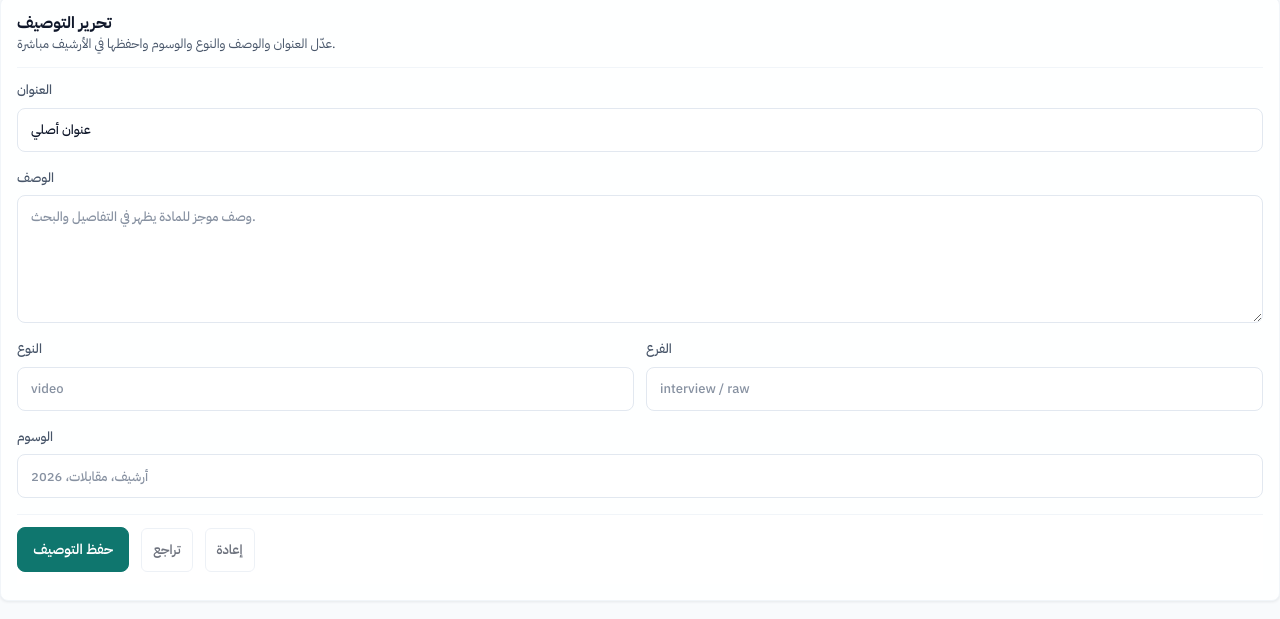
Test: RecordDescribeForm undo/redo (V1-732C) › typing after an undo clears redo history
This screenshot has width=1280, height=619.
Step 1. Replace the text in the field labelled "العنوان" with "أول تعديل" → (640, 130), box 17,108 -> 1263,152
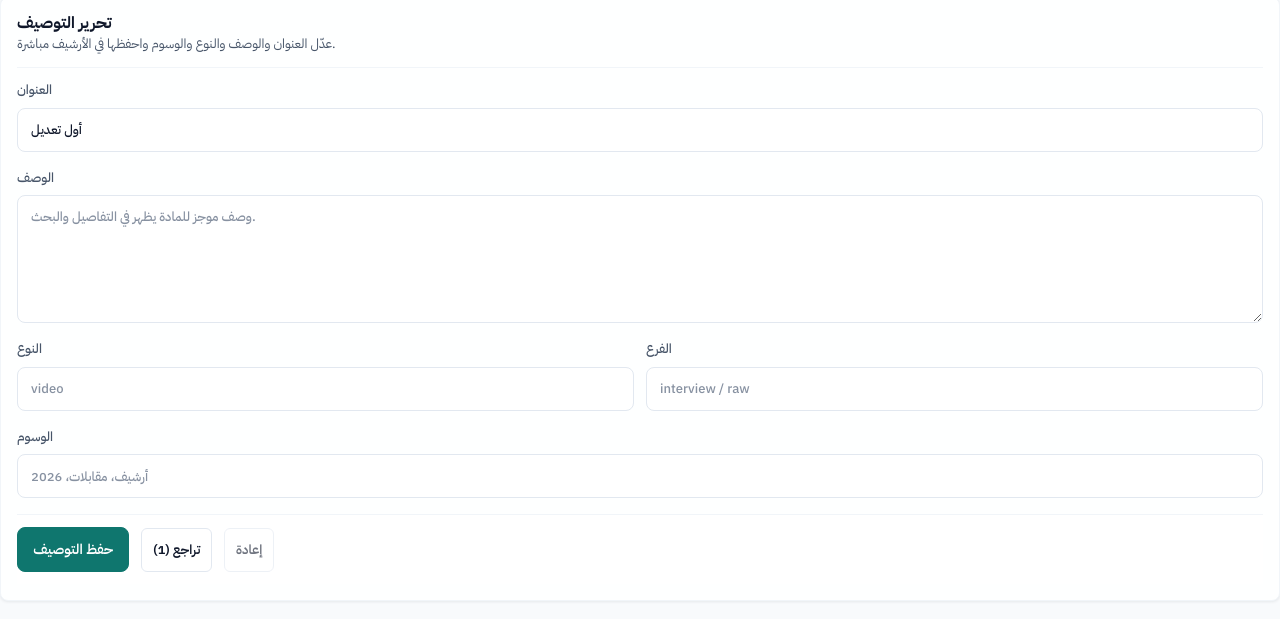
Step 2. Click the button "تراجع (1)" → (177, 550), box 141,528 -> 212,572
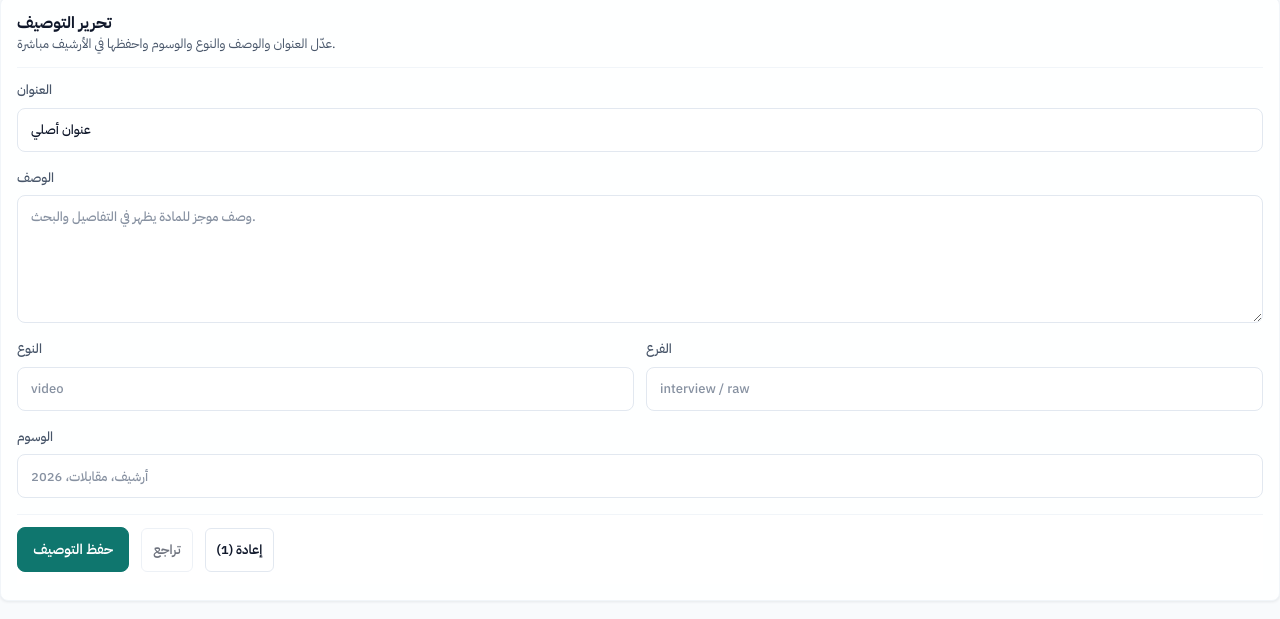
Result: the button "إعادة (1)" is enabled at 204,528 -> 274,572
Step 3. Replace the text in the field labelled "العنوان" with "تعديل آخر" → (640, 130), box 17,108 -> 1263,152
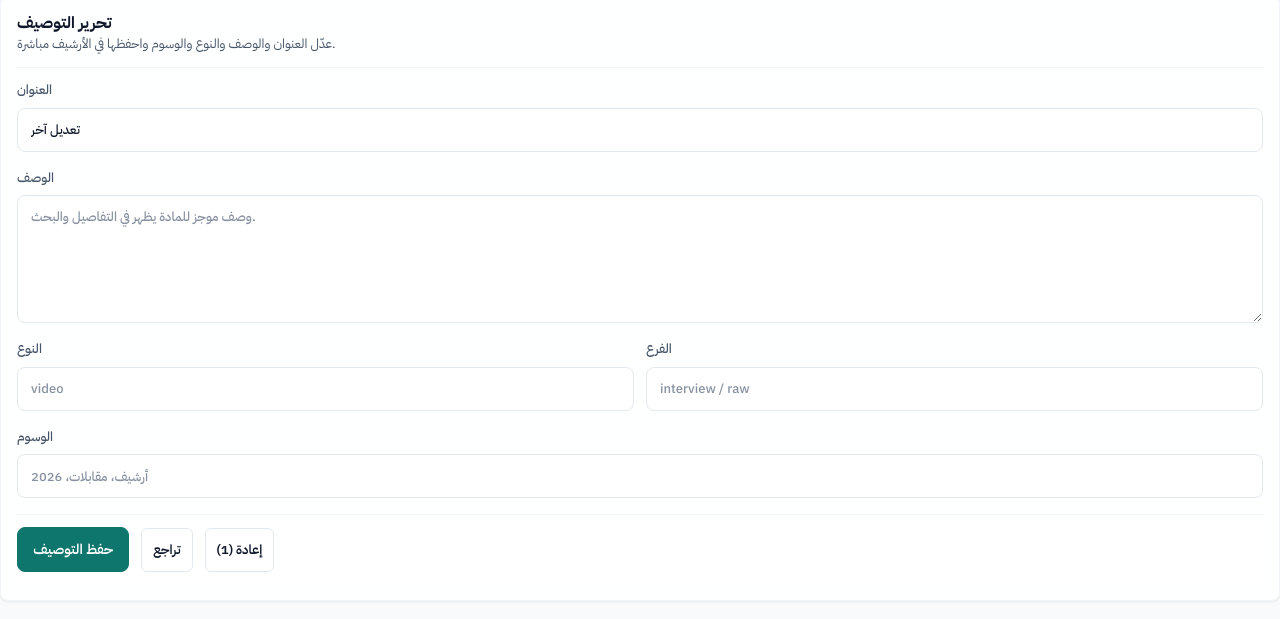
Step 4. Leave the field labelled "العنوان", box 17,108 -> 1263,152
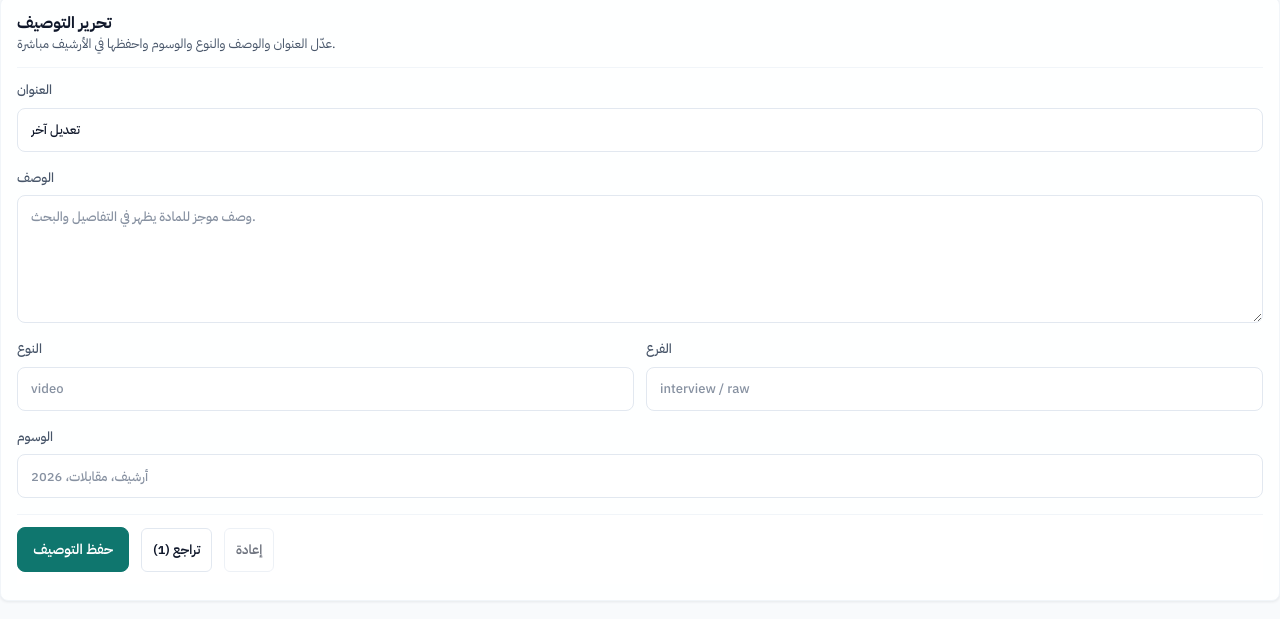
Result: the button "إعادة" is disabled at 224,528 -> 274,572
